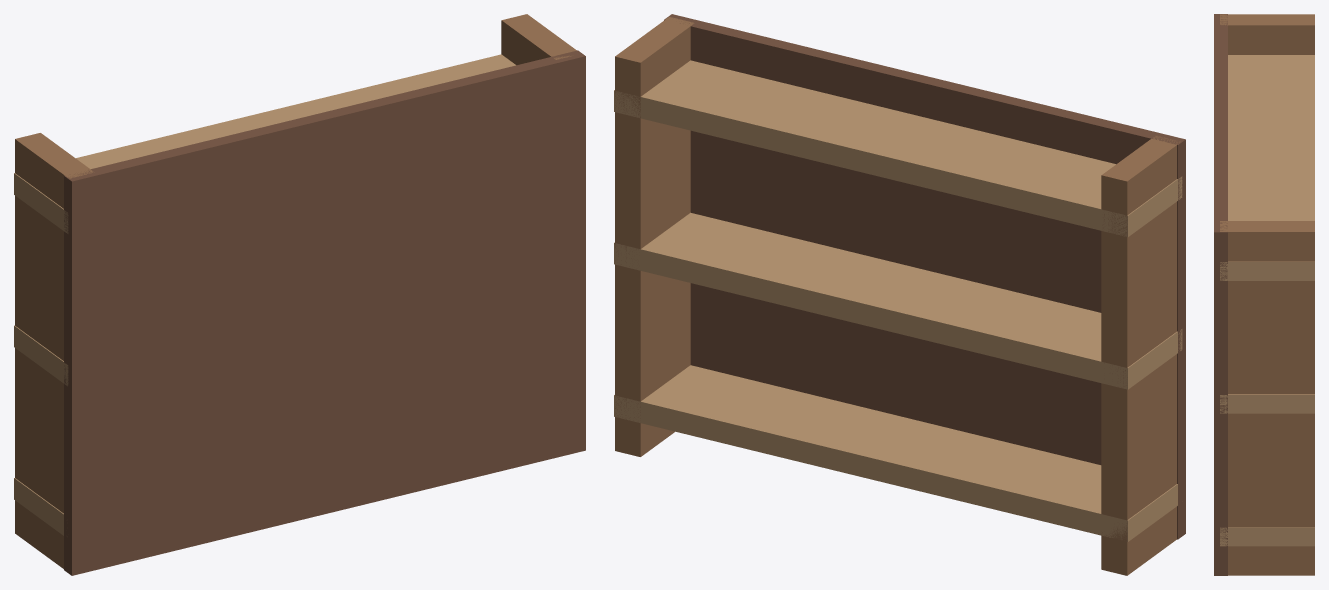
Rendered from tavern_bottle_rack.glb.
3 views of the same model, side by side, from view 1: azimuth 30°, elevation 25°; view 2: azimuth 150°, elevation 25°; view 3: azimuth 270°, elevation 25° (orthographic). The views are drawn at different scales.
Parts seen in each view (by area): view 1: tavern_bottle_rack_Mesh; view 2: tavern_bottle_rack_Mesh; view 3: tavern_bottle_rack_Mesh.
Part boxes in pixels (box(x1,y1,x2,y2)): tavern_bottle_rack_Mesh: box(14, 14, 585, 575); tavern_bottle_rack_Mesh: box(614, 14, 1185, 575); tavern_bottle_rack_Mesh: box(1214, 14, 1314, 575).
Bounding box in the file's own units: 3 × 2.2 × 0.585.
